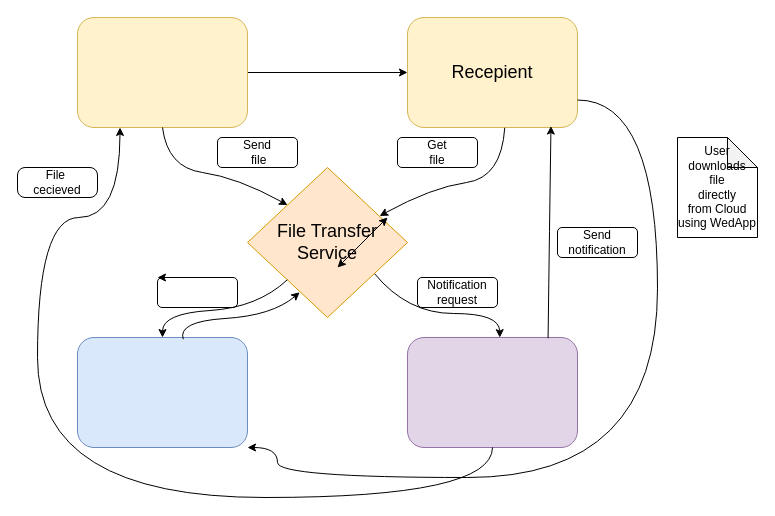
The diagram is 775 pixels wide and 516 high, and some of its shapes have lost their labels. Here are the shapes that lost their labels. From the top down, the centre of each, then its label:
At (x=162, y=72): "Sender".
At (x=197, y=292): "Store file".
At (x=162, y=392): "Cloud(FileStorage)".
At (x=492, y=392): "Email Service".
